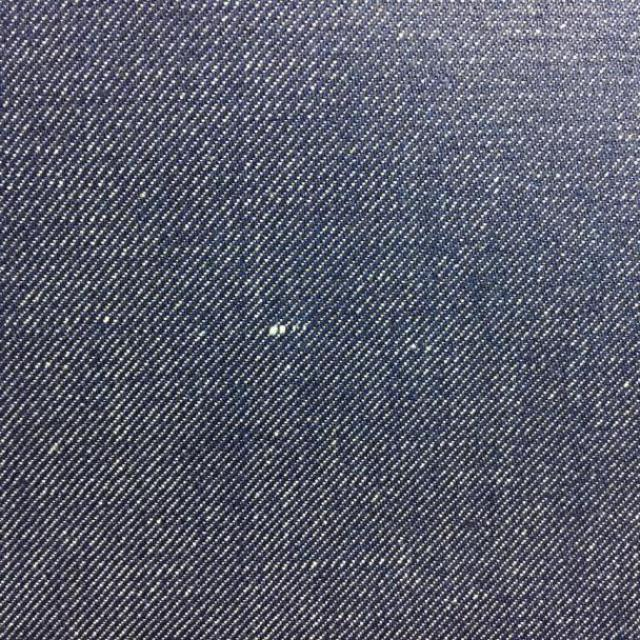Knot: (269, 323, 308, 337)
